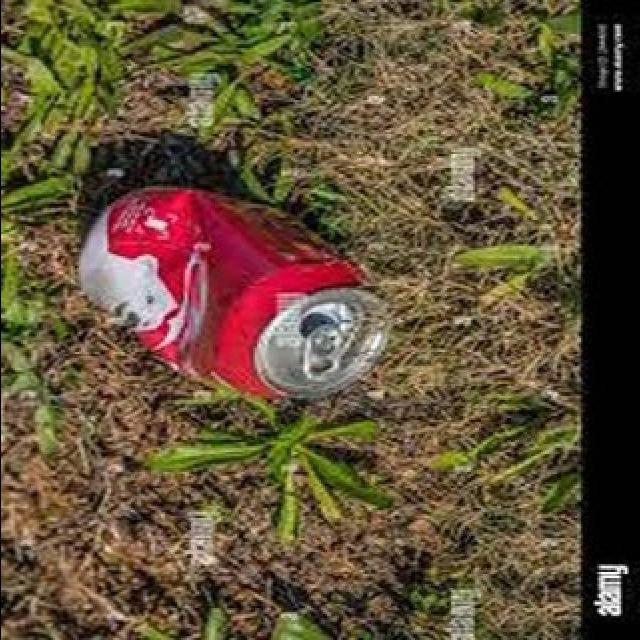can: (74, 185, 397, 401)
